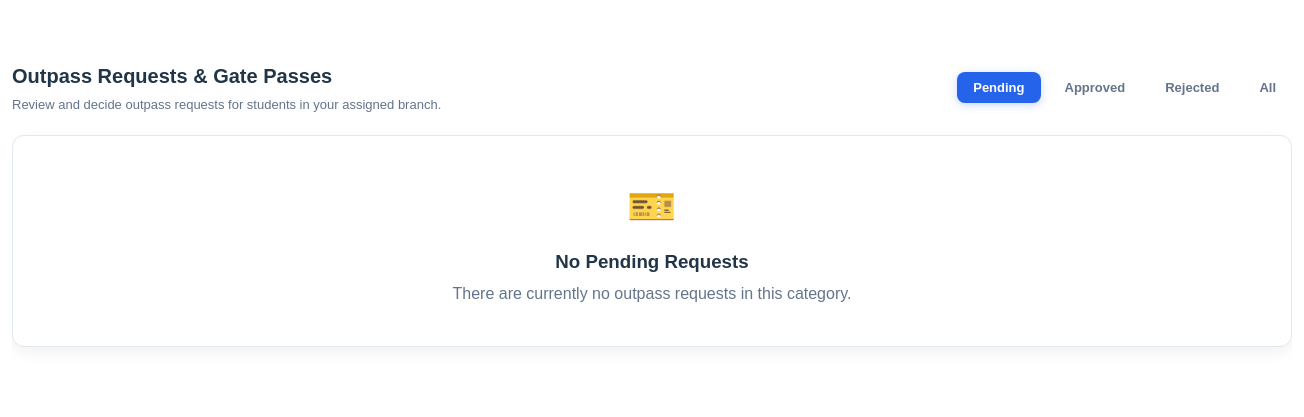
Test: Faculty outpass review › shows only real student location and approval details, not fabricated contact or gate pass data
The image size is (1304, 417).
Click the button "All": coordinates (1268, 88) x1=1243 y1=72 x2=1292 y2=104
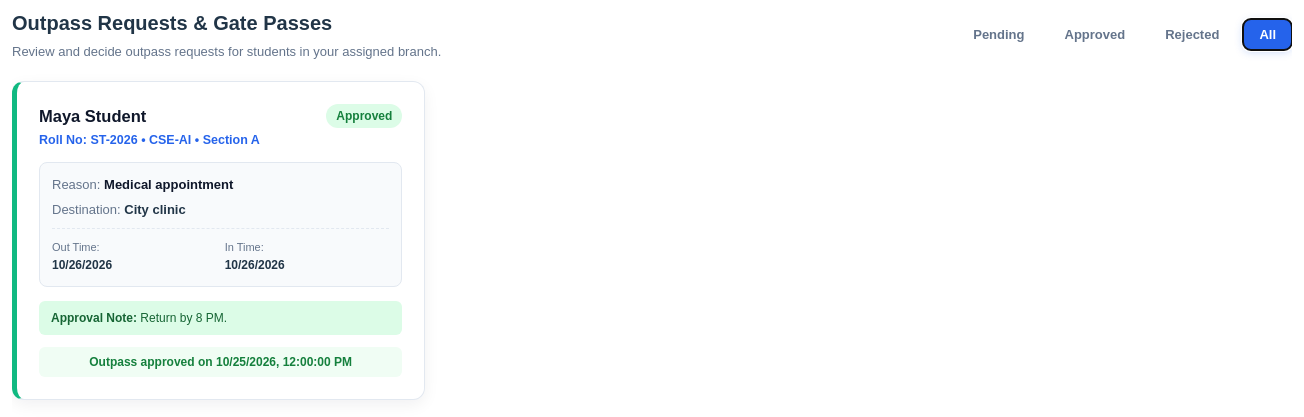
Expected: the heading "Maya Student" is shown, x1=39 y1=107 x2=146 y2=125
Expected: the text "Roll No: ST-2026 • CSE-AI • Section A" is shown, x1=39 y1=131 x2=260 y2=150
Expected: the text "Outpass approved on 10/25/2026, 12:00:00 PM" is shown, x1=39 y1=347 x2=402 y2=377
